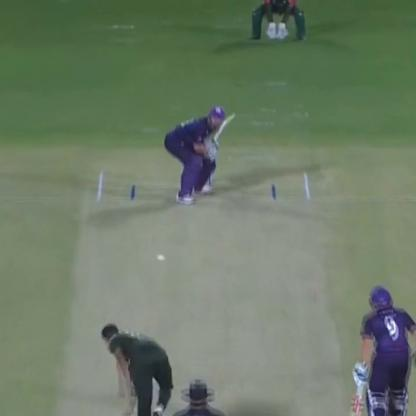ball: (150, 247, 162, 264)
bat: (58, 171, 349, 416), (214, 105, 238, 145)
